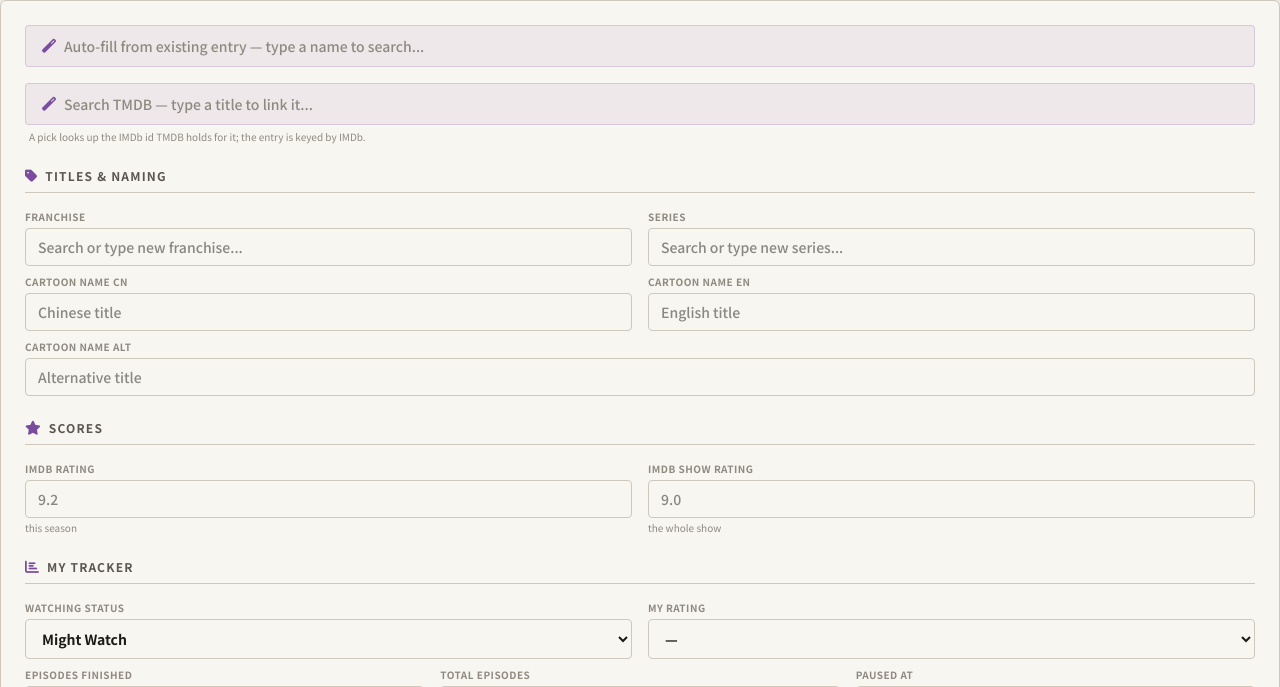
CartoonAddTab › offers cartoon and untyped franchises only
Click the dropdown labelled "franchise". click: (328, 247)
box: [25,228,632,266]
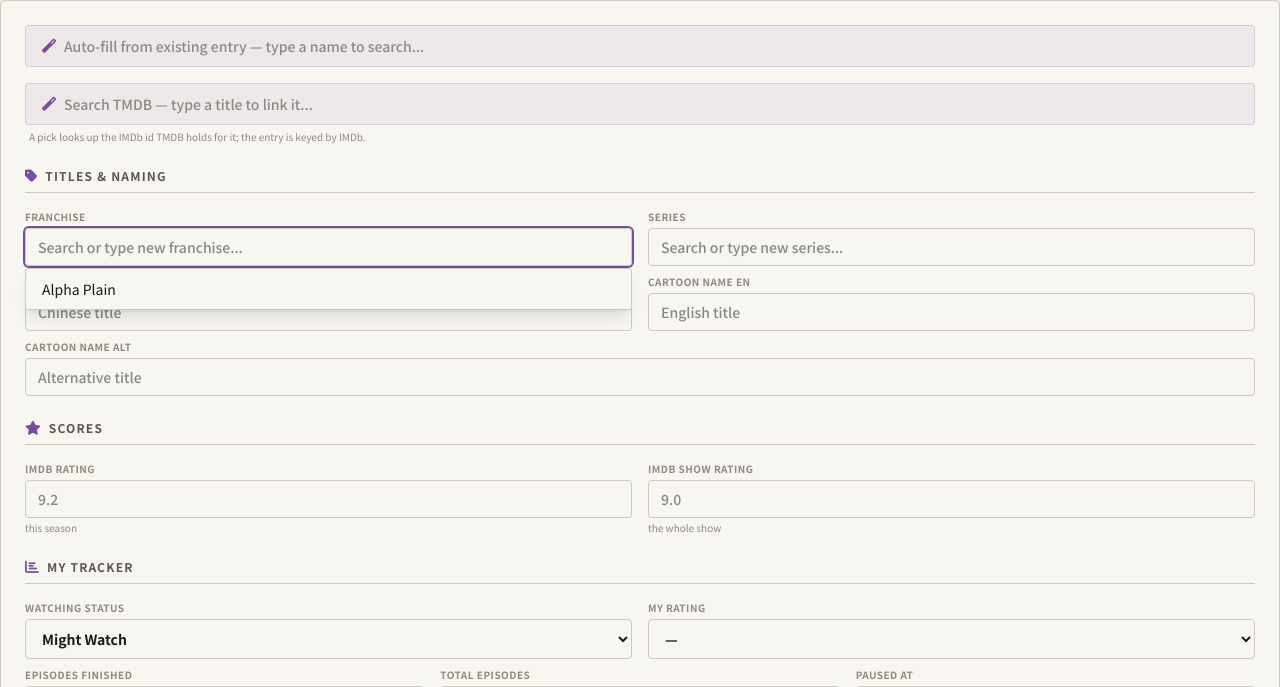
Result: the option "Alpha Plain" is shown at [42,279,116,299]
